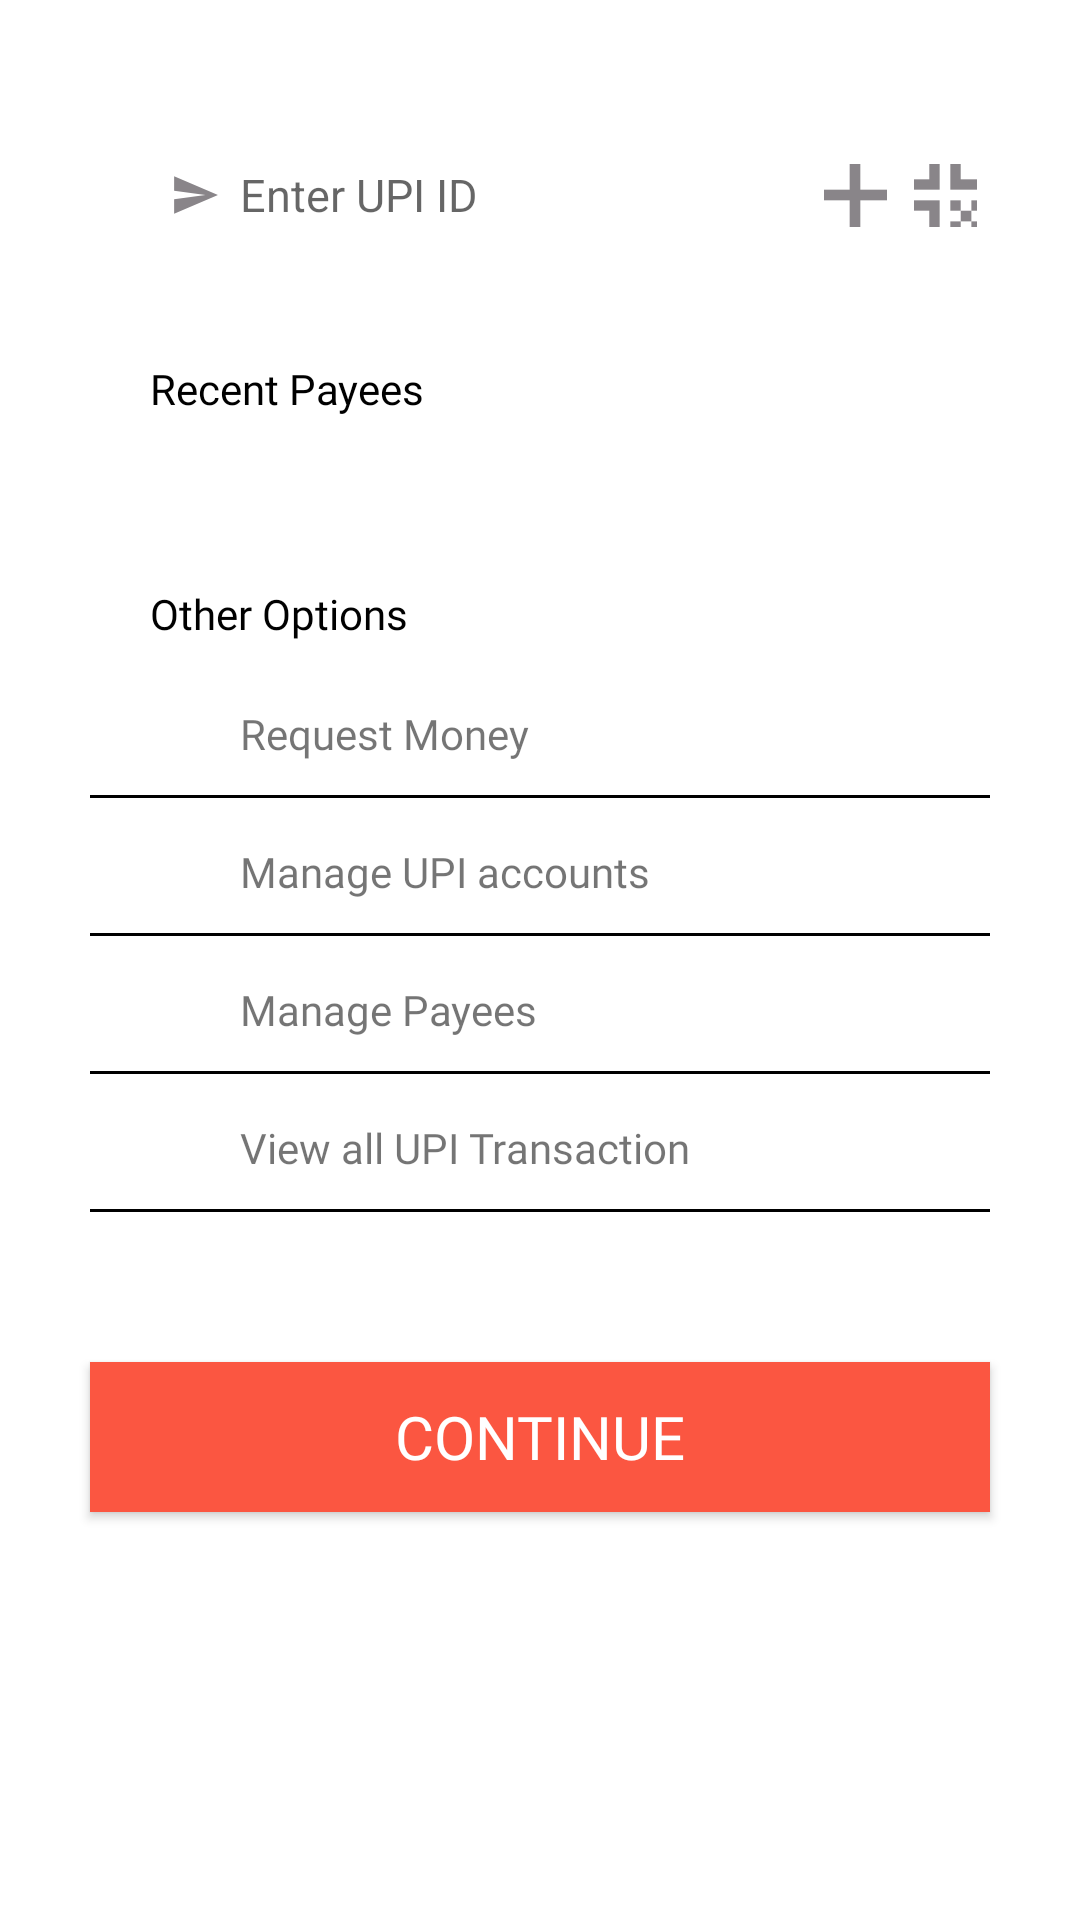

Icons on this 1080 × 1920 Android screen, each with the point to tap as (x,y):
send money: (195,195)
